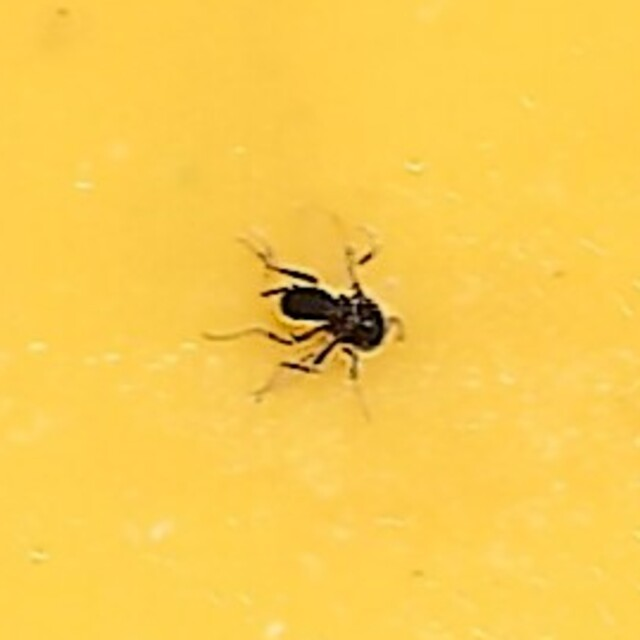Brachycera: (238, 232, 402, 408)
